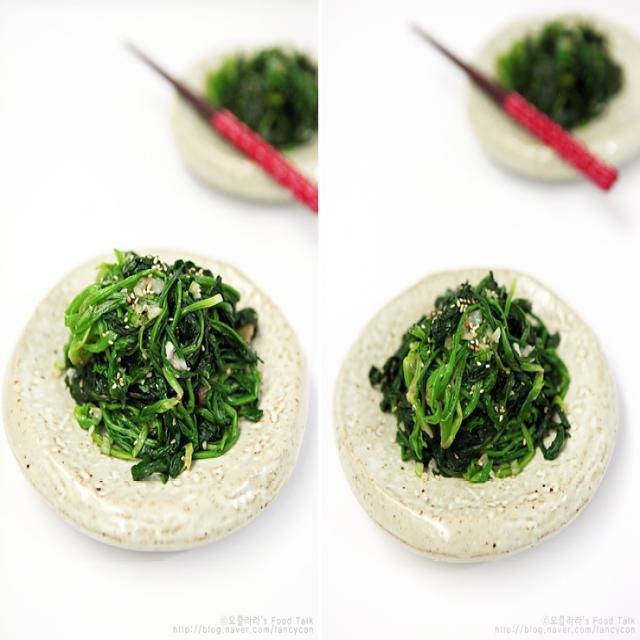Spinach: (62, 247, 270, 474), (382, 262, 573, 489)
